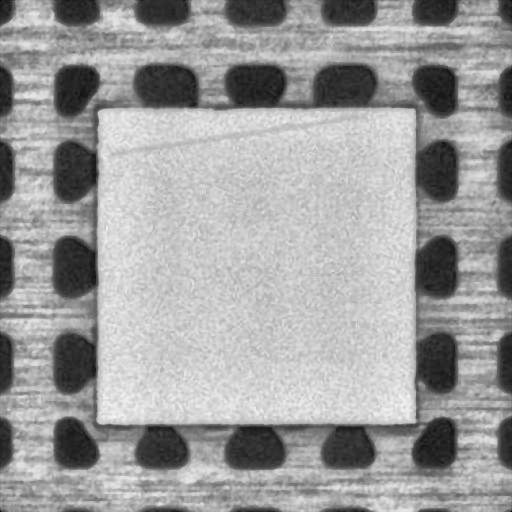DIE_CRACK: (110, 115, 364, 153)
